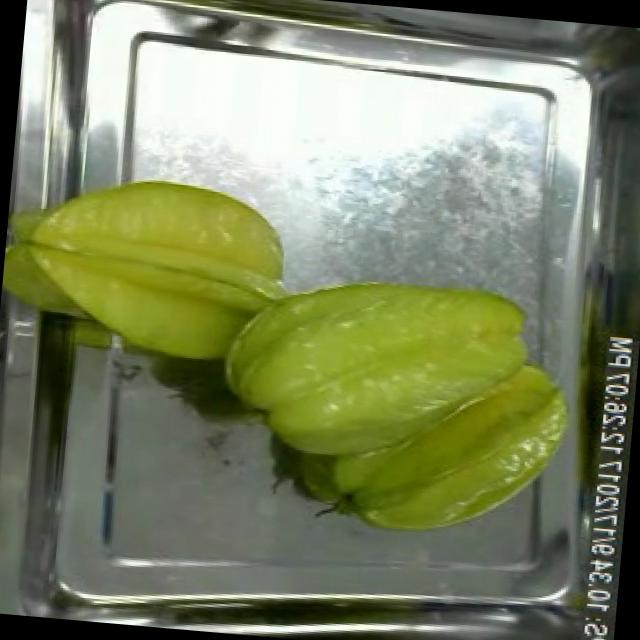fruit: (190, 252, 594, 562), (0, 155, 300, 379)
